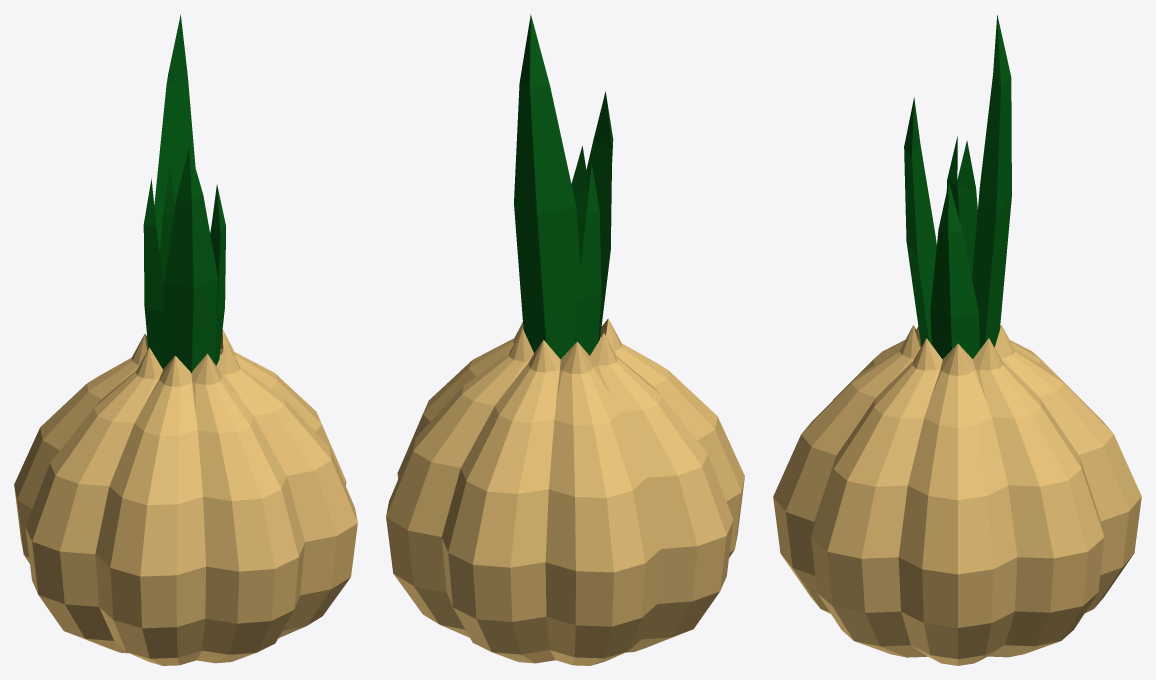
Rendered from Garlic.fbx.
3 renders of one model, left to right at view 1: azimuth 30°, elevation 25°; view 2: azimuth 150°, elevation 25°; view 3: azimuth 270°, elevation 25°, orthographic. The views are drawn at different scales.
Parts seen in each view (by area): view 1: Garlic, Leaveas; view 2: Garlic, Leaveas; view 3: Garlic, Leaveas.
Part boxes in pixels (left/top/right/bottom): Garlic: left=14, top=329, right=357, bottom=665; Leaveas: left=143, top=14, right=225, bottom=373; Garlic: left=386, top=318, right=744, bottom=665; Leaveas: left=514, top=14, right=613, bottom=359; Garlic: left=773, top=325, right=1141, bottom=665; Leaveas: left=904, top=15, right=1011, bottom=359.
Size of the model in its own units: 290 by 551 by 290.
